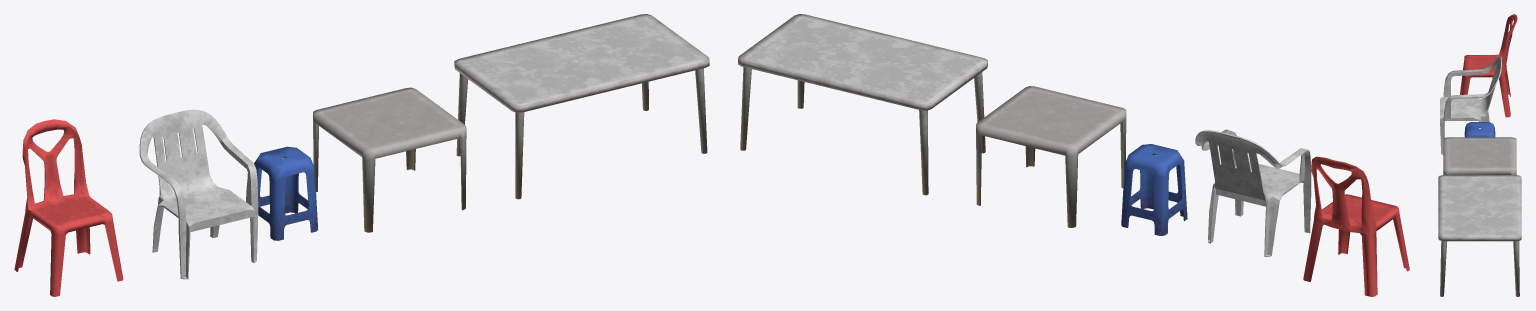
The model's file is dirty_plastic_chairs__tables_for_unity.glb.
The picture shows the model from 3 angles, left to right: view 1: azimuth 30°, elevation 25°; view 2: azimuth 150°, elevation 25°; view 3: azimuth 270°, elevation 25°; orthographic projection. The views are drawn at different scales.
Parts seen in each view (by area): view 1: Cube.010, NurbsPath.001, Cube.009, Cube.008, Cube.002; view 2: Cube.010, Cube.009, NurbsPath.001, Cube.008, Cube.002; view 3: Cube.010, Cube.009, NurbsPath.001, Cube.008, Cube.002.
Part boxes in pixels (bbox=[...]): Cube.010: bbox=[454, 14, 709, 199]; NurbsPath.001: bbox=[139, 109, 258, 279]; Cube.009: bbox=[313, 87, 466, 232]; Cube.008: bbox=[14, 119, 123, 296]; Cube.002: bbox=[254, 146, 318, 240]; Cube.010: bbox=[738, 14, 987, 195]; Cube.009: bbox=[976, 86, 1126, 227]; NurbsPath.001: bbox=[1195, 129, 1311, 256]; Cube.008: bbox=[1303, 156, 1409, 296]; Cube.002: bbox=[1121, 144, 1187, 235]; Cube.010: bbox=[1438, 175, 1521, 296]; Cube.009: bbox=[1443, 137, 1516, 174]; NurbsPath.001: bbox=[1440, 56, 1501, 154]; Cube.008: bbox=[1460, 14, 1517, 117]; Cube.002: bbox=[1464, 122, 1495, 137].
Bounding box in the file's own units: 6.55 × 1.32 × 1.14.
Materials: 5 (5 with a texture image).
